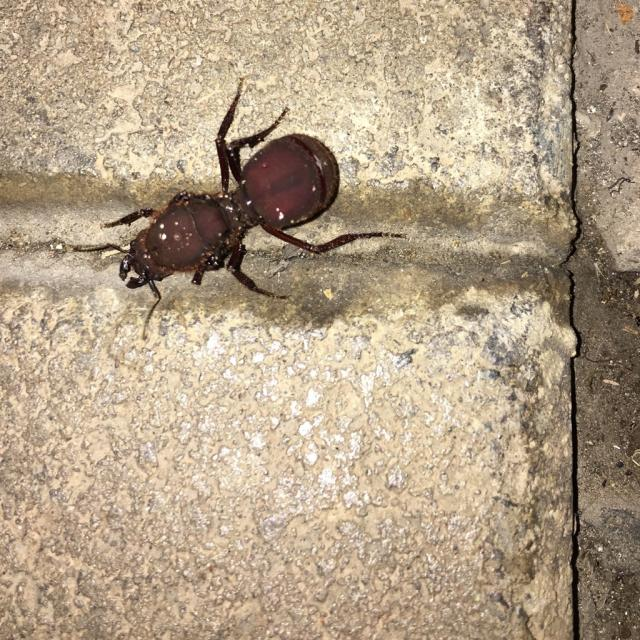Alive-Female-Dealate: (73, 77, 408, 340)
